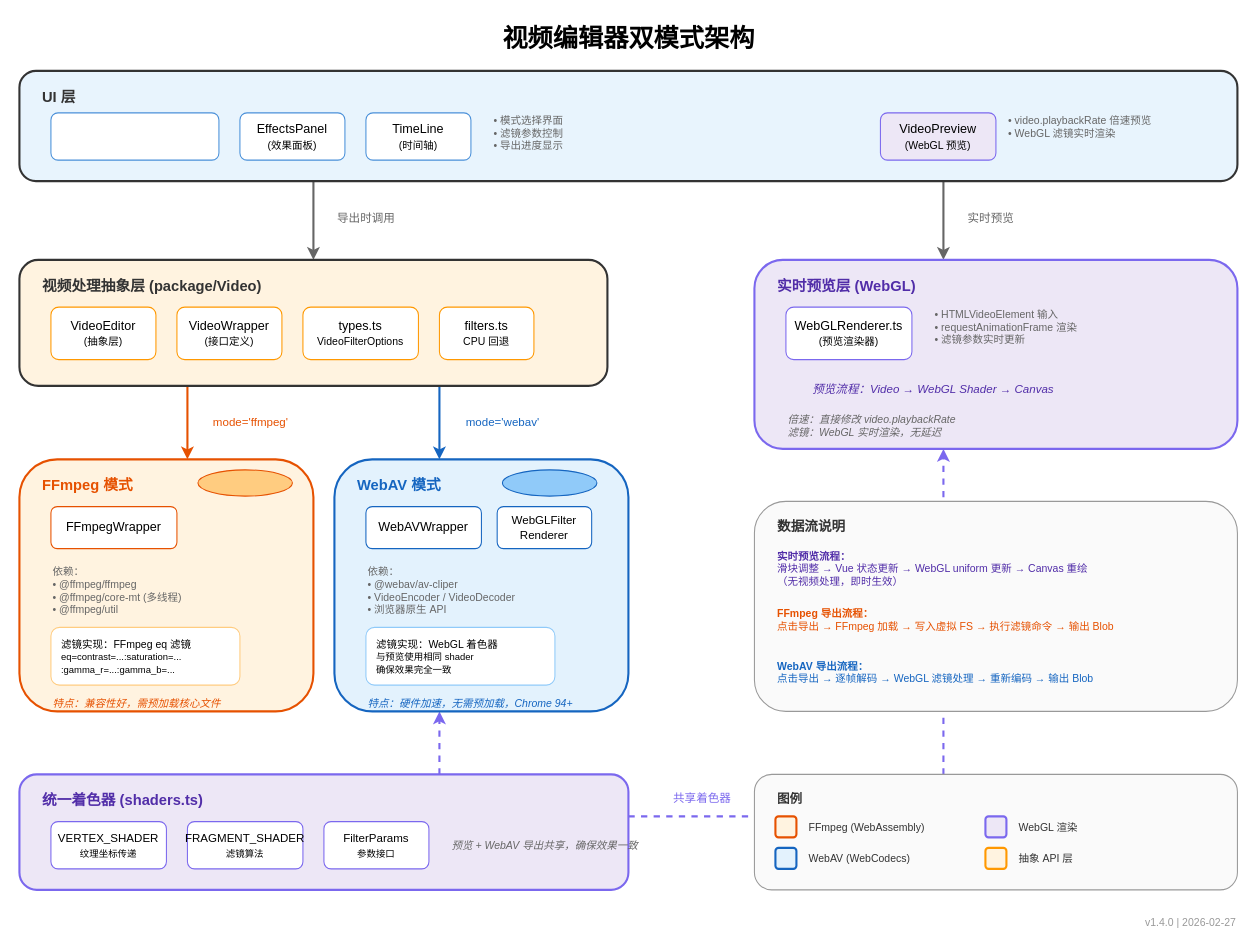
This 1256x949 diagram has some shape labels left out. The shapes that lost their labels are listed below. From the top down, each one's centre as x and y in pixels, then its label:
At point 134,136: "VideoEditor/index.vue".
At point 244,482: "WebAssembly".
At point 549,482: "WebCodecs".
